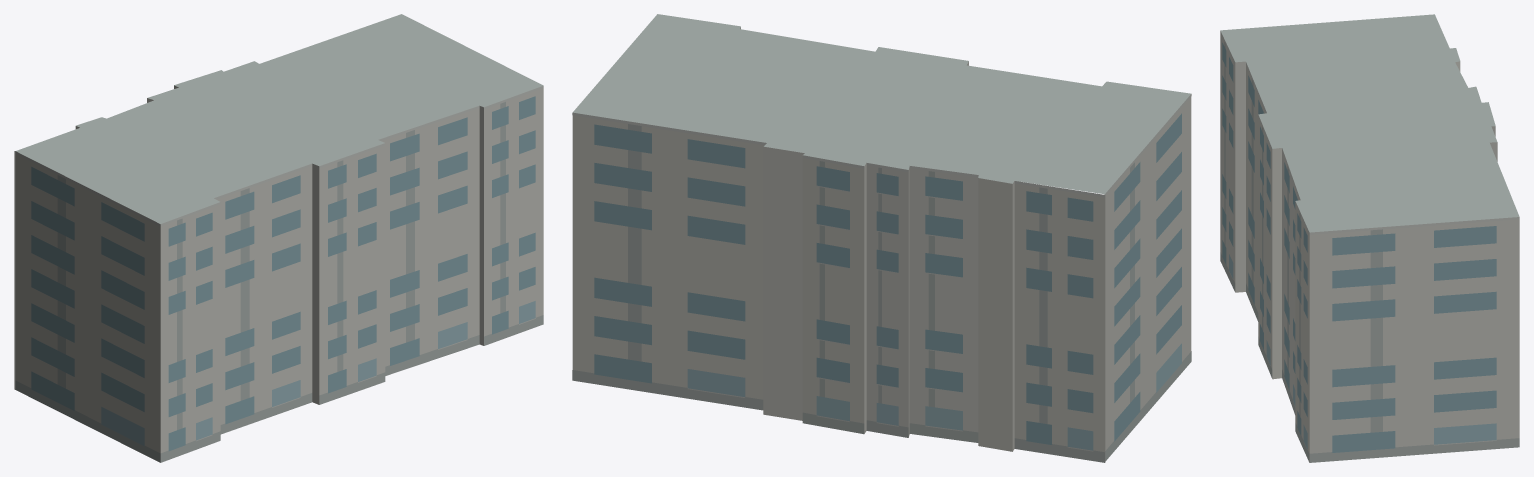
Rendered from survey-upis-32839899.glb.
The picture shows the model from 3 angles, left to right: view 1: azimuth 30°, elevation 25°; view 2: azimuth 150°, elevation 25°; view 3: azimuth 270°, elevation 25°; orthographic projection. The views are drawn at different scales.
Visible parts, largest first — view 1: survey-upis-32839899.tmp; view 2: survey-upis-32839899.tmp; view 3: survey-upis-32839899.tmp.
Boxes of the visible parts, box(x1,y1,x2,y2) form: survey-upis-32839899.tmp: box(14, 14, 543, 462); survey-upis-32839899.tmp: box(572, 14, 1191, 462); survey-upis-32839899.tmp: box(1220, 14, 1519, 462).
Size of the model in its own units: 49.32 by 24.24 by 28.55.
